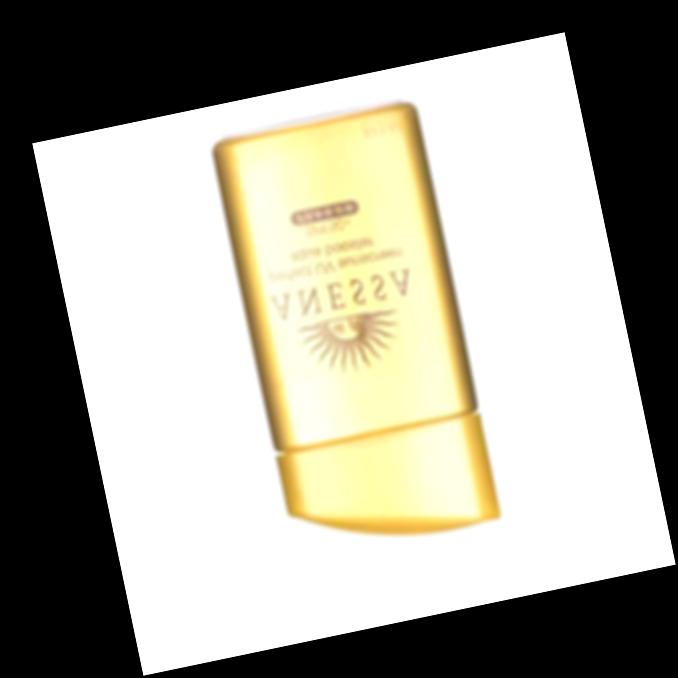cosmetic: (206, 103, 504, 563)
